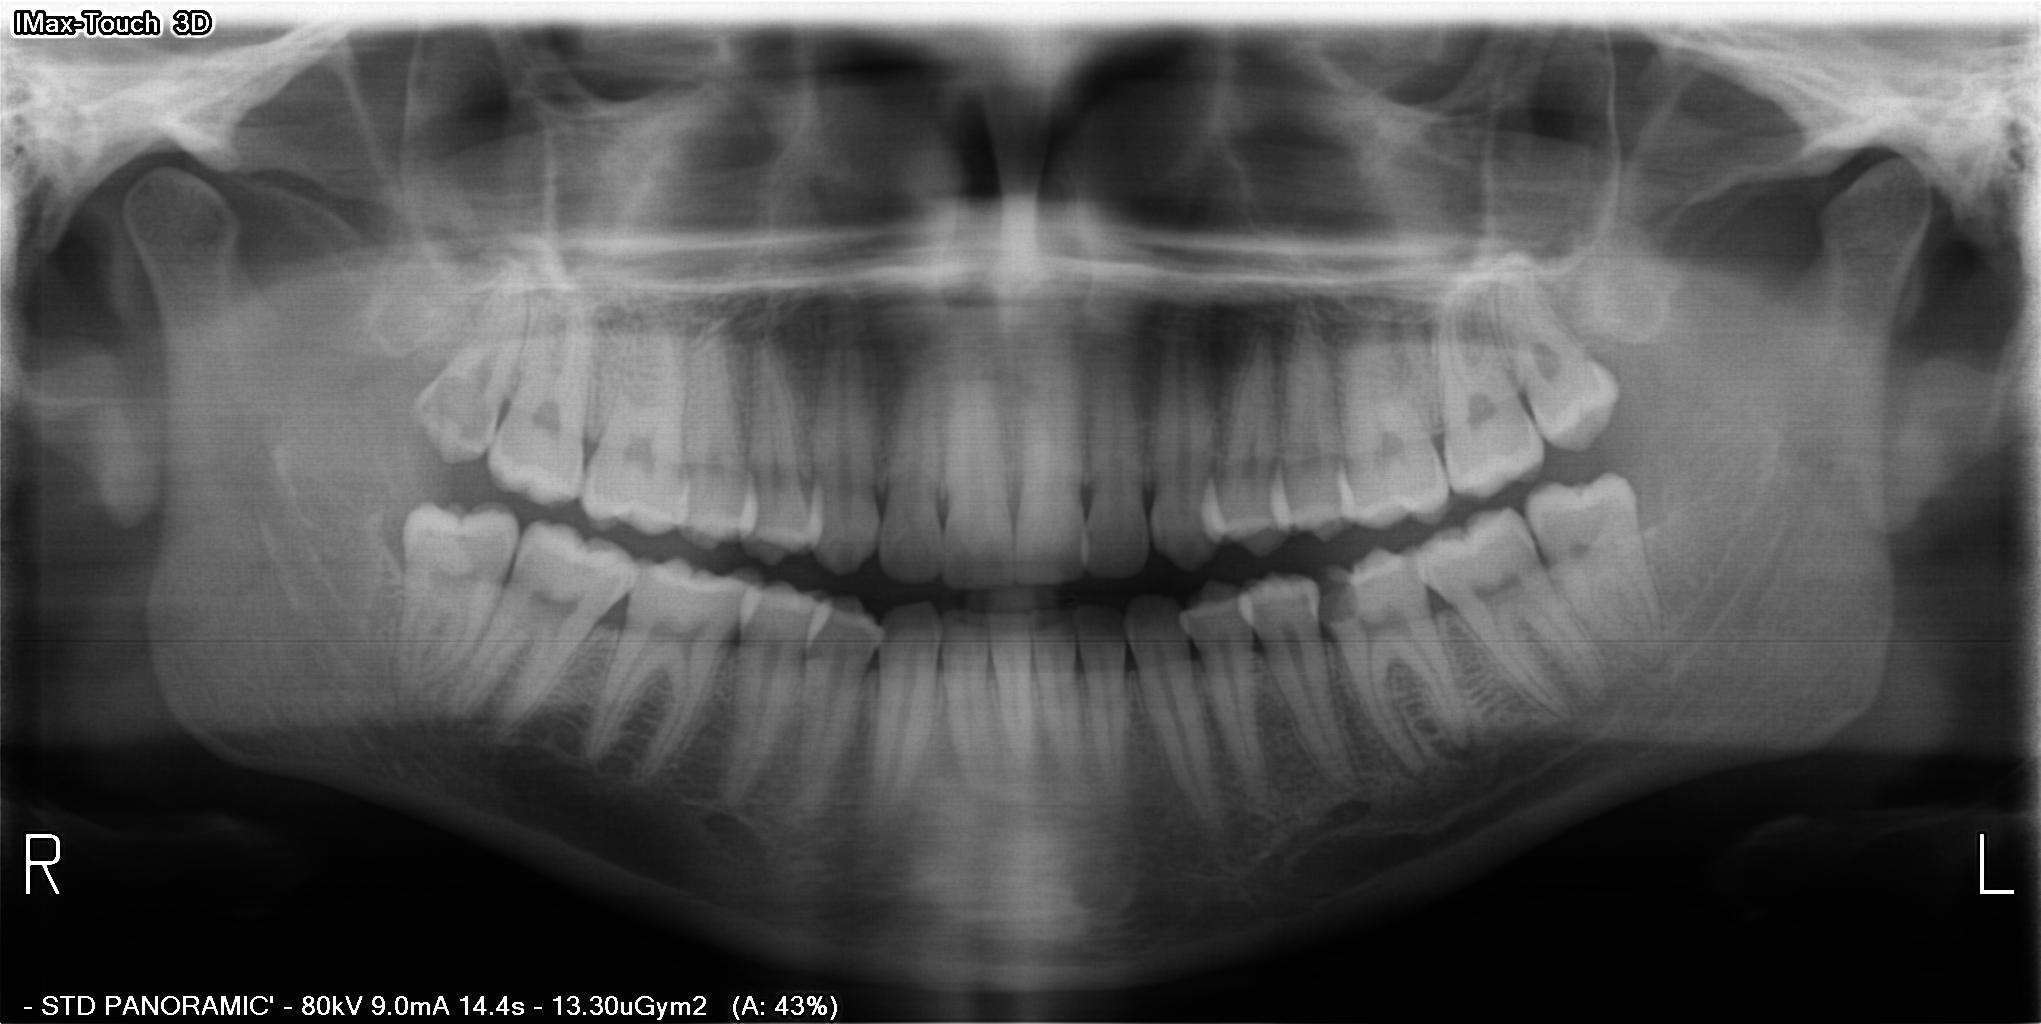Çürük Bölgesi: (424, 367, 498, 444), (1310, 558, 1358, 636)
